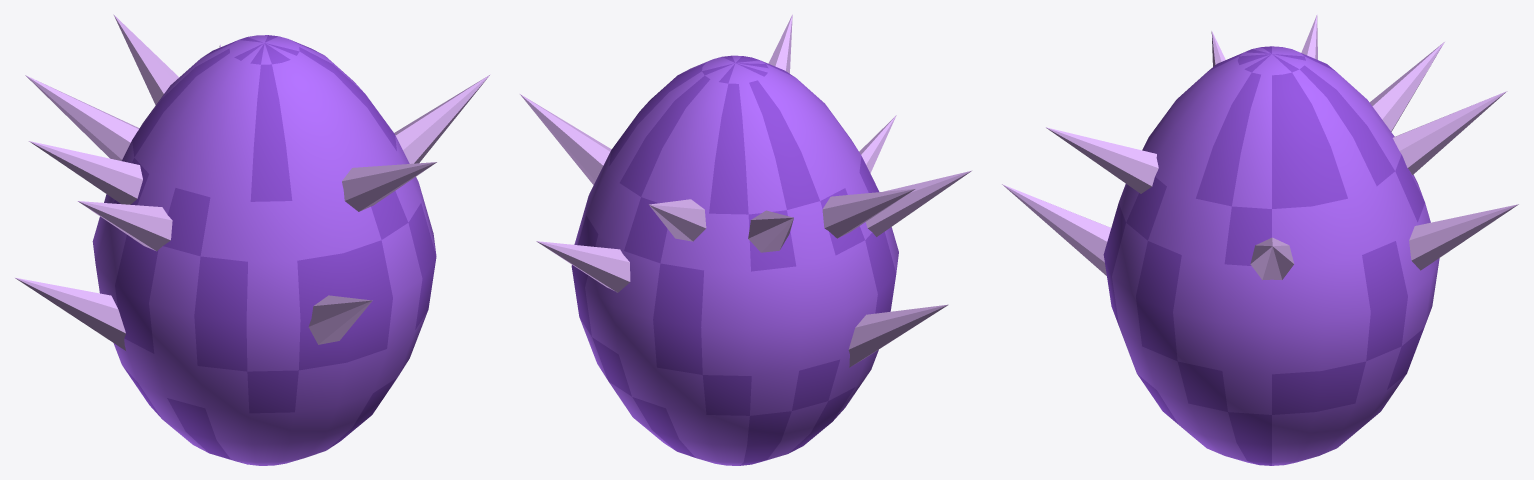
The model's file is Crystal.glb.
The picture shows the model from 3 angles, left to right: view 1: azimuth 30°, elevation 25°; view 2: azimuth 150°, elevation 25°; view 3: azimuth 270°, elevation 25°; orthographic projection. The views are drawn at different scales.
Parts seen in each view (by area): view 1: Crystal; view 2: Crystal; view 3: Crystal.
Part boxes in pixels (<box>): Crystal: <box>15,14,490,465</box>; Crystal: <box>520,14,971,465</box>; Crystal: <box>1002,14,1518,465</box>.
Size of the model in its own units: 4.71 by 4 by 4.68.
Materials: 1 (1 with a texture image).
